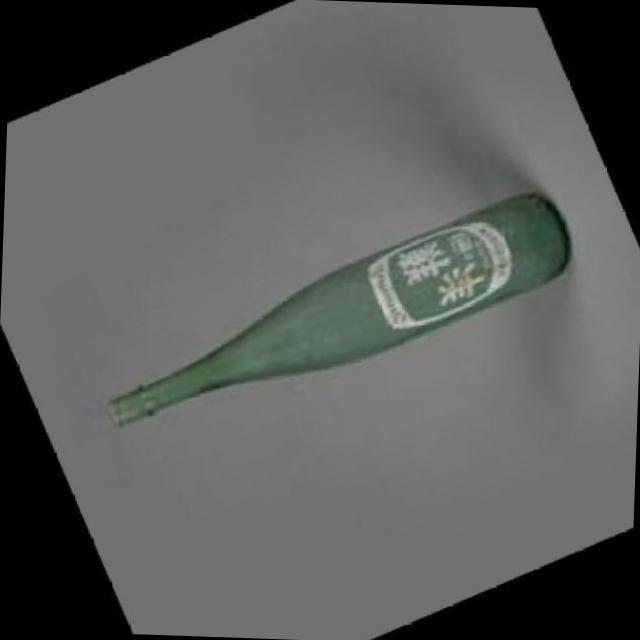BotolKaca: (103, 173, 574, 444)
